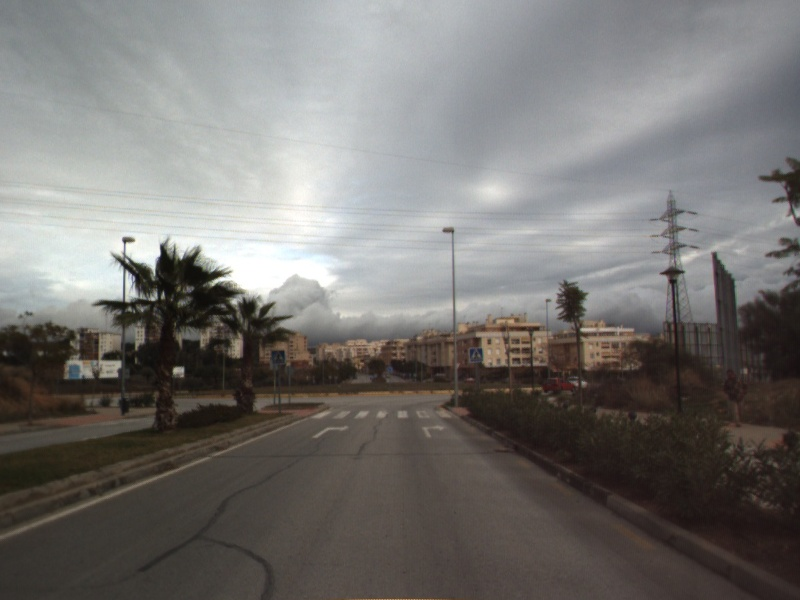RIGHT: (310, 423, 351, 440), (420, 423, 447, 440)
